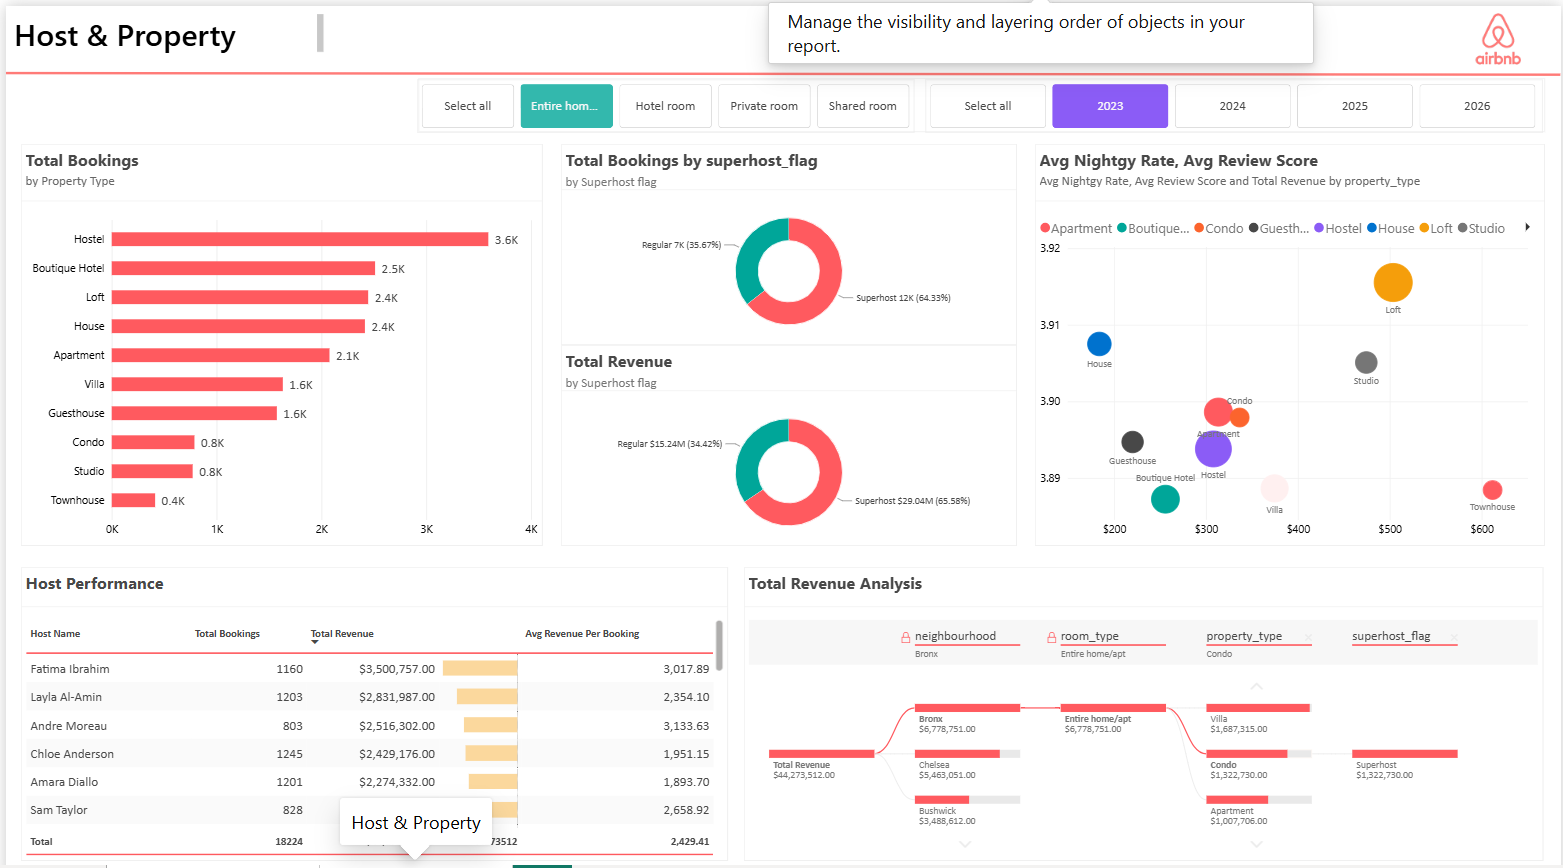

What the dashboard file says about the page in this screenshot:
{"tool":"powerbi","page":{"name":"Host & Property","canvas":[1920,1080],"ordinal":1},"visuals":[{"type":"shape","box":[508.9,89.2,1390.9,66.9],"z":0},{"type":"shape","box":[18.8,170.8,643.8,495.8],"z":1000},{"type":"shape","box":[685.4,170.8,562.5,495.8],"z":2000},{"type":"shape","box":[1270.8,170.8,629.2,495.8],"z":3000},{"type":"shape","box":[18.6,693.2,872.9,362.7],"z":4000},{"type":"shape","box":[911.9,693.2,986.4,362.7],"z":5000},{"type":"textbox","box":[0,0,402,68],"z":6000},{"type":"advancedSlicerVisual","fields":{"Values":["dim_property.room_type"]},"box":[508,90,614,66],"z":7000},{"type":"advancedSlicerVisual","fields":{"Values":["dim_date.year"]},"box":[1136,90,762,66],"z":8000},{"type":"clusteredBarChart","fields":{"Y":["Measure Table.Total Bookings"],"Category":["dim_property.property_type"]},"box":[18.8,170.8,643.8,495.8],"z":9000},{"type":"donutChart","fields":{"Y":["Measure Table.Total Bookings"],"Category":["dim_host.superhost_flag"]},"box":[685.4,170.8,562.5,247.9],"z":10000},{"type":"donutChart","title":"Total Revenue ","fields":{"Category":["dim_host.superhost_flag"],"Y":["Measure Table.Total Revenue"]},"box":[685.4,418.8,562.5,247.9],"z":11000},{"type":"scatterChart","title":"Avg Nightgy Rate, Avg Review Score ","fields":{"X":["Measure Table.Avg Nightgy Rate"],"Y":["Measure Table.Avg Review Score"],"Series":["dim_property.property_type"],"Size":["Measure Table.Total Revenue"]},"box":[1270.8,170.8,629.2,495.8],"z":12000},{"type":"decompositionTreeVisual","title":"Total Revenue Analysis","fields":{"Analyze":["Measure Table.Total Revenue"],"ExplainBy":["dim_location.neighbourhood","dim_property.room_type","dim_property.property_type","dim_host.superhost_flag"]},"box":[911.9,693.2,986.4,362.7],"z":13000},{"type":"tableEx","title":"Host Performance","fields":{"Values":["dim_host.host_name","Measure Table.Total Bookings","Measure Table.Total Revenue","Measure Table.Total Revenue_","Measure Table.Avg Revenue Per Booking"]},"box":[18.6,693.2,872.9,362.7],"z":14000}]}

Visuals, with their boxes on the page's 1920x1080 design canvas (x1, y1, x2, y2). These are canvas units, not pixel positions in the 1563x868 screenshot, which may show the page scaled, cropped or inside an application window:
shape: (509,89,1900,156)
shape: (19,171,663,667)
shape: (685,171,1248,667)
shape: (1271,171,1900,667)
shape: (19,693,892,1056)
shape: (912,693,1898,1056)
textbox: (0,0,402,68)
advancedSlicerVisual - dim_property.room_type: (508,90,1122,156)
advancedSlicerVisual - dim_date.year: (1136,90,1898,156)
clusteredBarChart - Measure Table.Total Bookings x dim_property.property_type: (19,171,663,667)
donutChart - Measure Table.Total Bookings x dim_host.superhost_flag: (685,171,1248,419)
"Total Revenue " donutChart: (685,419,1248,667)
"Avg Nightgy Rate, Avg Review Score " scatterChart: (1271,171,1900,667)
"Total Revenue Analysis" decompositionTreeVisual: (912,693,1898,1056)
"Host Performance" tableEx: (19,693,892,1056)
